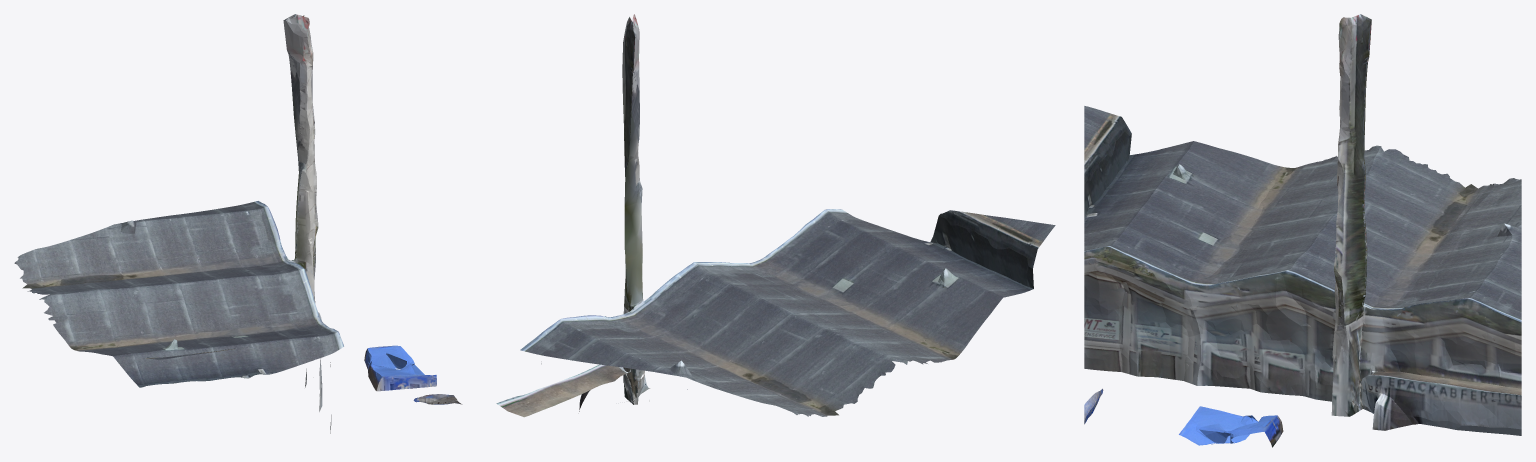
3 views of the same model, side by side, from view 1: azimuth 30°, elevation 25°; view 2: azimuth 150°, elevation 25°; view 3: azimuth 270°, elevation 25° (orthographic). The views are drawn at different scales.
Size of the model in its own units: 8.36 by 8.36 by 8.36.
3 materials, 3 textured.
